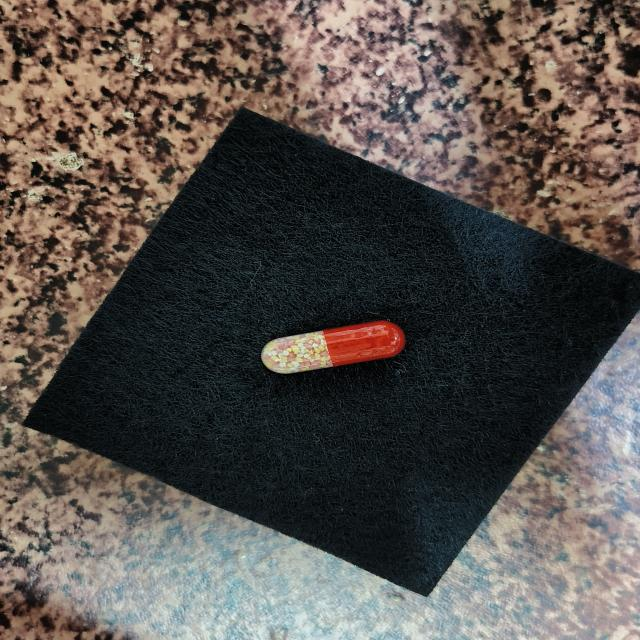Intact Capsule: (261, 320, 405, 374)
